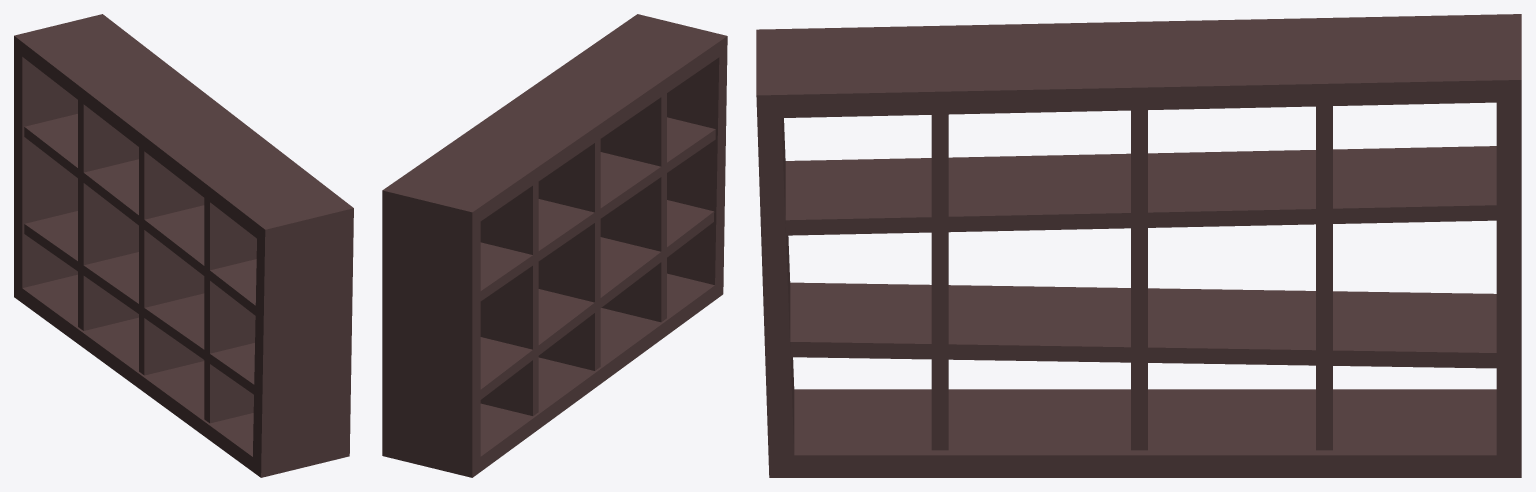
The model's file is prop_55.FBX.
3 renders of one model, left to right at view 1: azimuth 30°, elevation 25°; view 2: azimuth 150°, elevation 25°; view 3: azimuth 270°, elevation 25°, orthographic. The views are drawn at different scales.
Visible parts, largest first — view 1: prop_55; view 2: prop_55; view 3: prop_55.
Boxes of the visible parts, bbox=[...] form: prop_55: bbox=[14, 14, 353, 477]; prop_55: bbox=[382, 14, 727, 477]; prop_55: bbox=[756, 14, 1521, 477].
Bounding box in the file's own units: 17.01 × 47.9 × 83.44.
